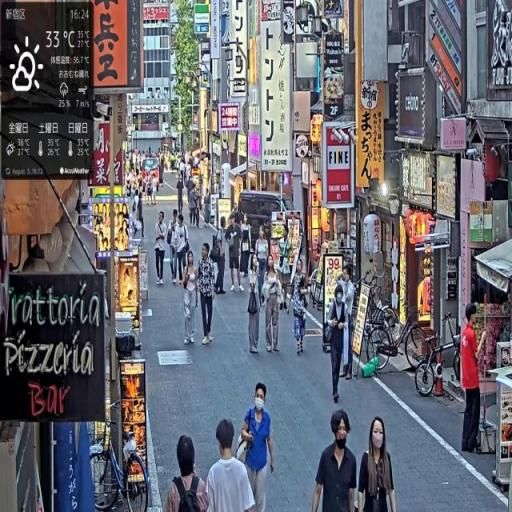person: (237, 382, 277, 512), (205, 418, 259, 512), (312, 409, 359, 512), (357, 415, 397, 512), (460, 305, 484, 460), (164, 435, 212, 512), (325, 281, 351, 409), (338, 263, 358, 382), (197, 243, 219, 349), (263, 257, 284, 355), (291, 260, 310, 357), (181, 251, 200, 346), (247, 257, 264, 359), (173, 214, 191, 290), (228, 213, 244, 295), (256, 226, 271, 304), (155, 210, 169, 286), (216, 215, 229, 296)
